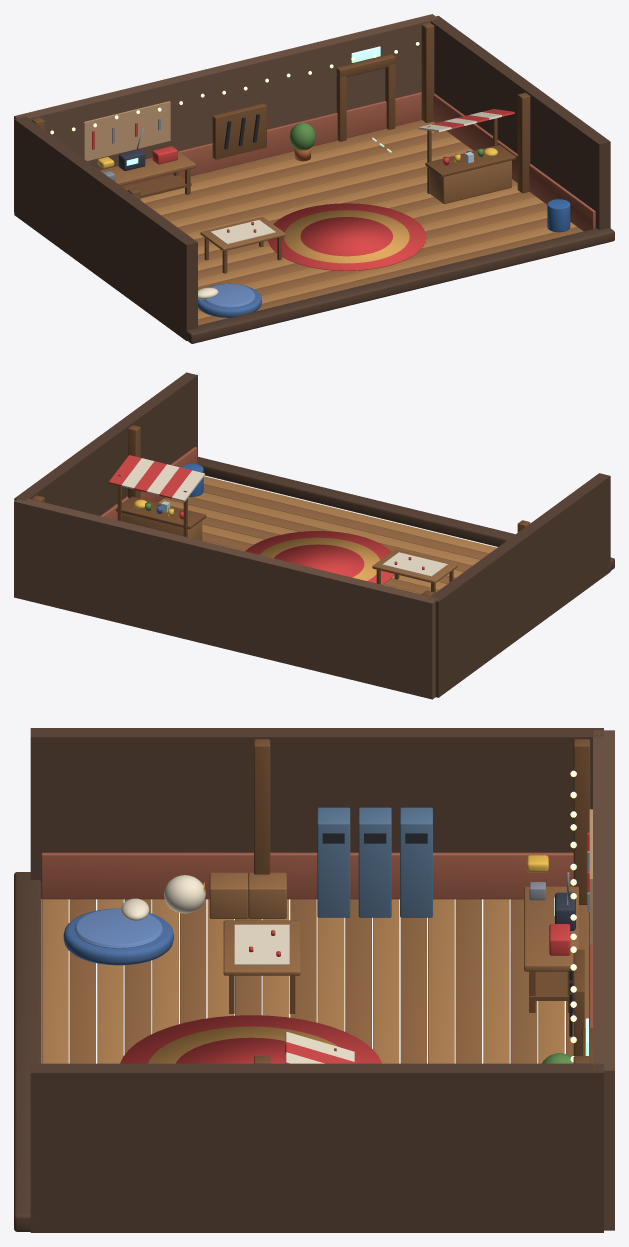
The model's file is hideout.glb.
3 renders of one model, top to bottom at view 1: azimuth 30°, elevation 25°; view 2: azimuth 150°, elevation 25°; view 3: azimuth 270°, elevation 25°, orthographic. The views are drawn at different scales.
Visible parts, largest first — view 1: room; view 2: room; view 3: room.
Part boxes in pixels (<box>): room: <box>14,14,614,343</box>; room: <box>14,372,614,699</box>; room: <box>14,728,614,1232</box>.
Size of the model in its own units: 14.8 by 3.32 by 10.9.
